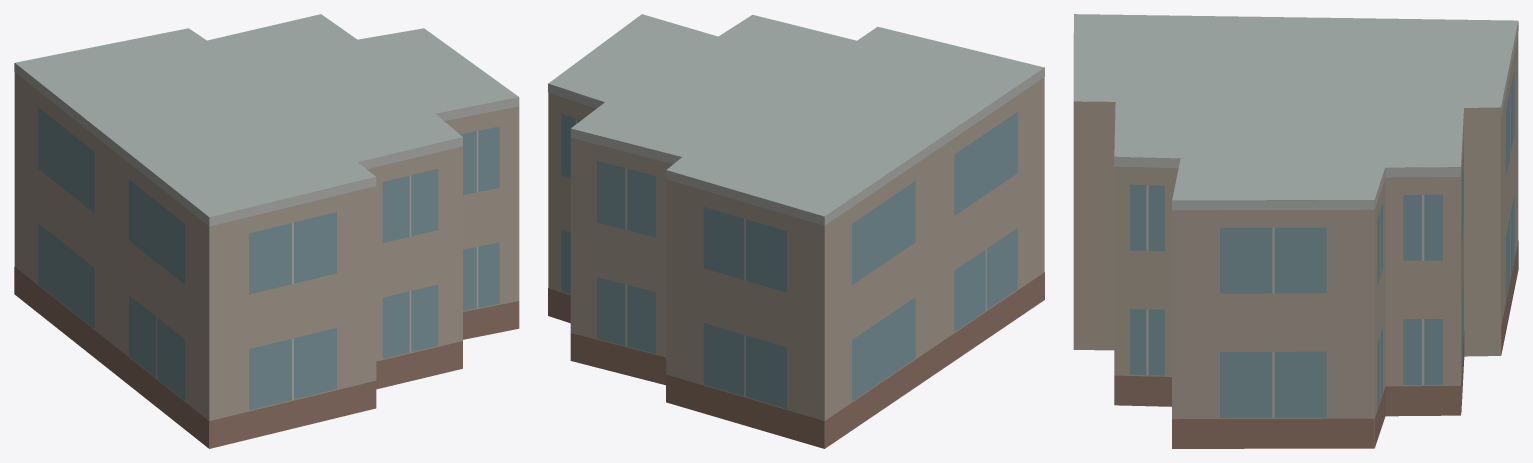
Rendered from survey-upis-32786979.glb.
3 views of the same model, side by side, from view 1: azimuth 30°, elevation 25°; view 2: azimuth 150°, elevation 25°; view 3: azimuth 270°, elevation 25° (orthographic). The views are drawn at different scales.
Parts seen in each view (by area): view 1: survey-upis-32786979.tmp; view 2: survey-upis-32786979.tmp; view 3: survey-upis-32786979.tmp.
Boxes of the visible parts, x1,y1,x2,y2 form: survey-upis-32786979.tmp: (14, 14, 519, 448); survey-upis-32786979.tmp: (548, 14, 1044, 448); survey-upis-32786979.tmp: (1073, 14, 1518, 448).
Size of the model in its own units: 9.82 by 6.1 by 9.91.
